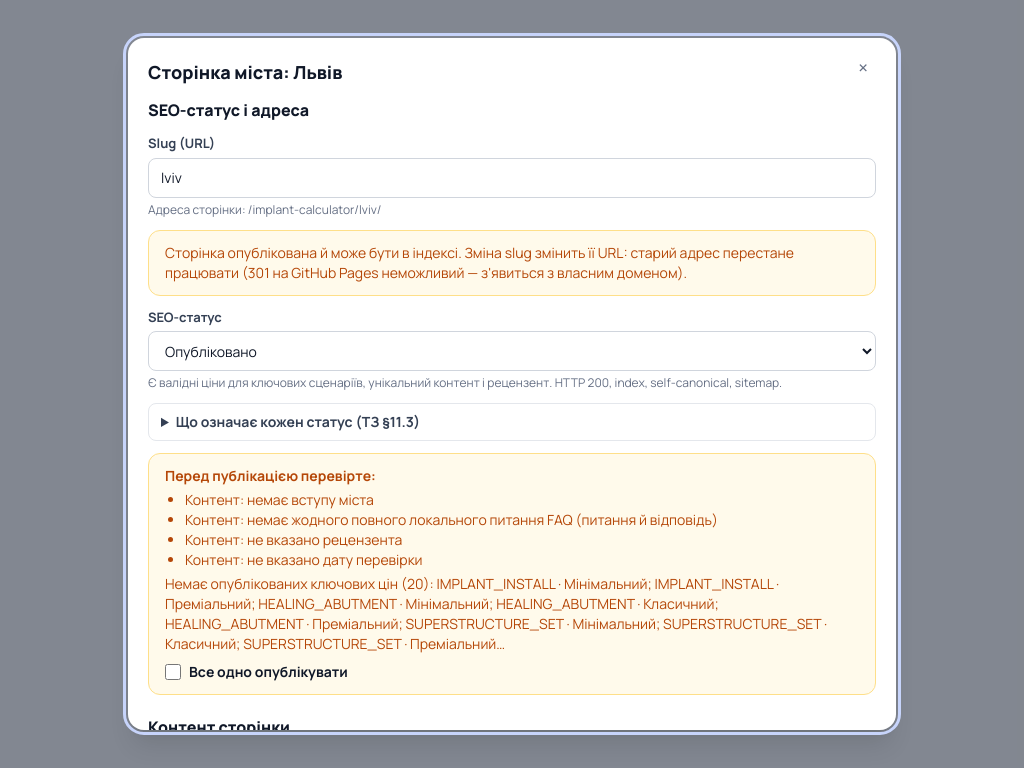
CityPageDialog › rejects an invalid slug and requires acknowledgement when changing a published slug
Replace the text in the field labelled "Slug (URL)" with "new-lviv" at [512, 178], box [148,158,876,198]
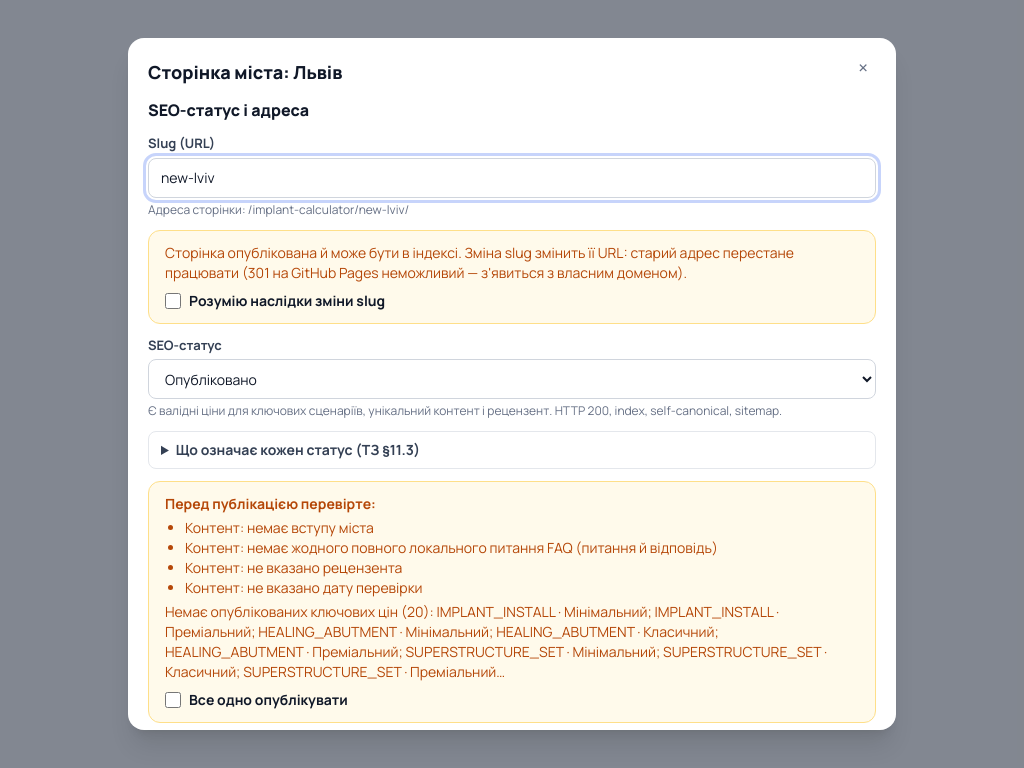
Click the checkbox labelled "Розумію наслідки зміни slug" at [173, 301], box [165,293,181,309]
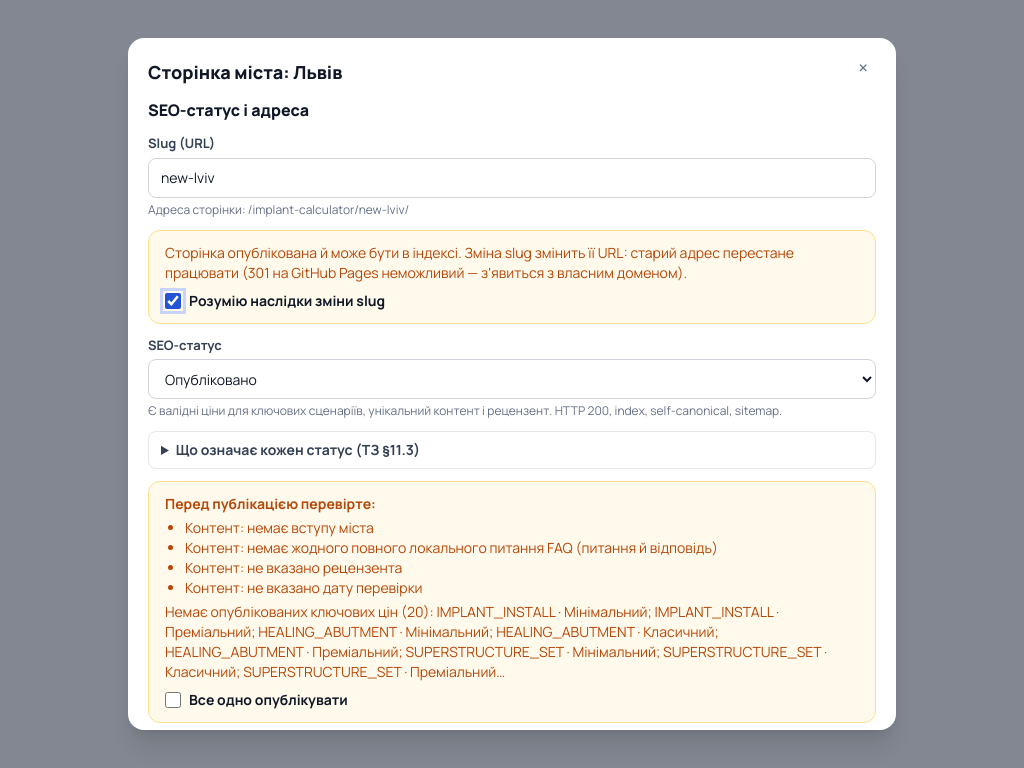
Replace the text in the field labelled "Slug (URL)" with "Bad Slug" at [512, 178], box [148,158,876,198]
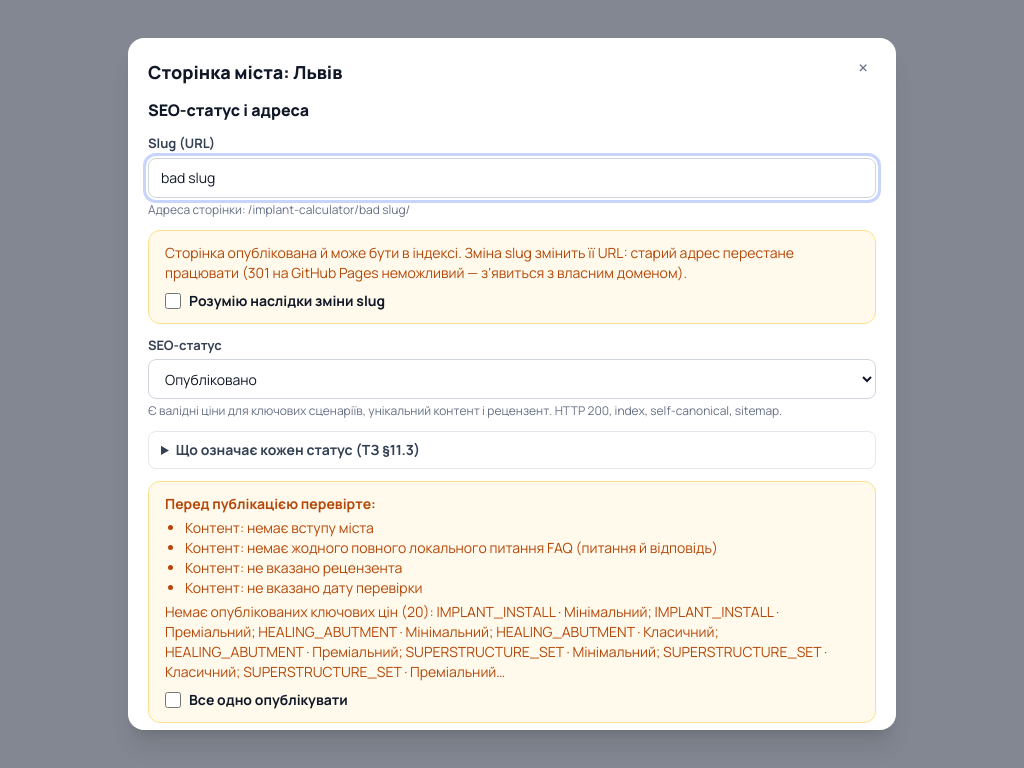
Click the checkbox labelled "Розумію наслідки зміни slug" at [173, 301], box [165,293,181,309]
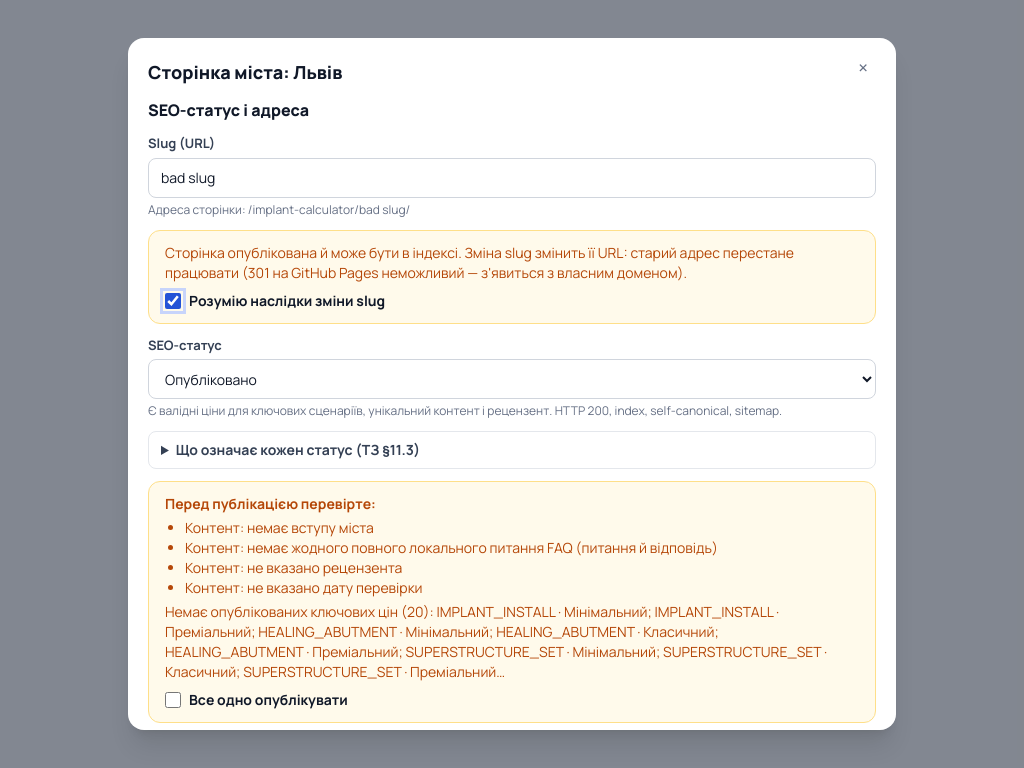
Click the checkbox labelled "Все одно опублікувати" at [173, 700], box [165,692,181,708]
(page scrolled)
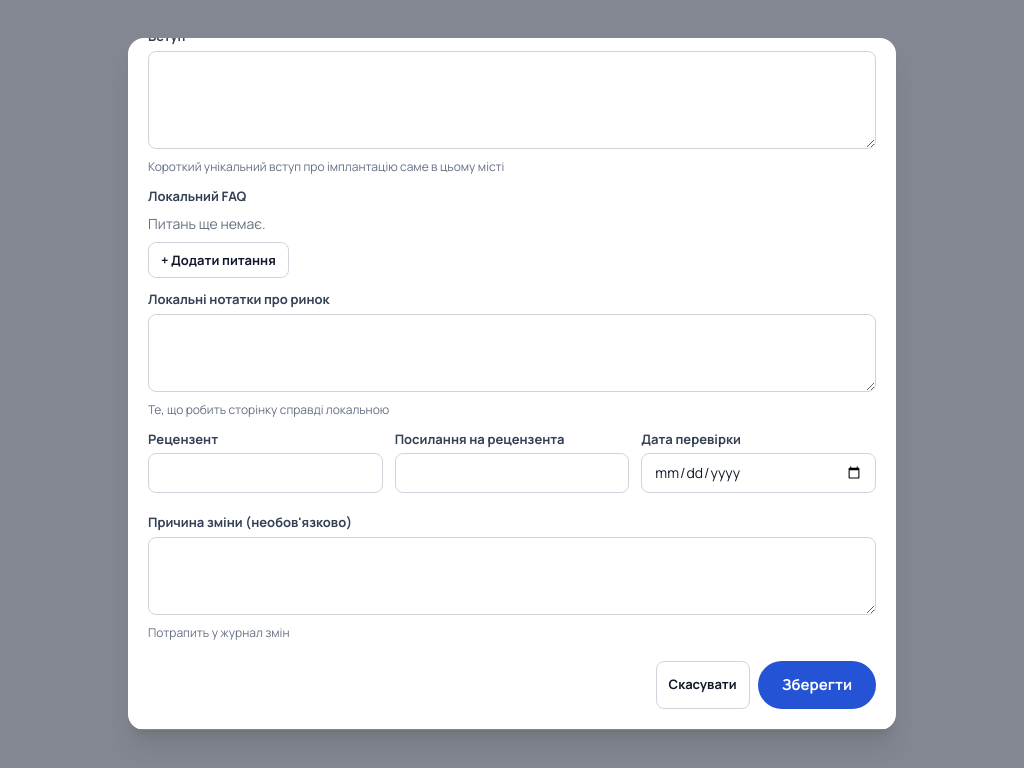
Click the button "Зберегти" at [817, 685], box [758,661,876,709]
(page scrolled)
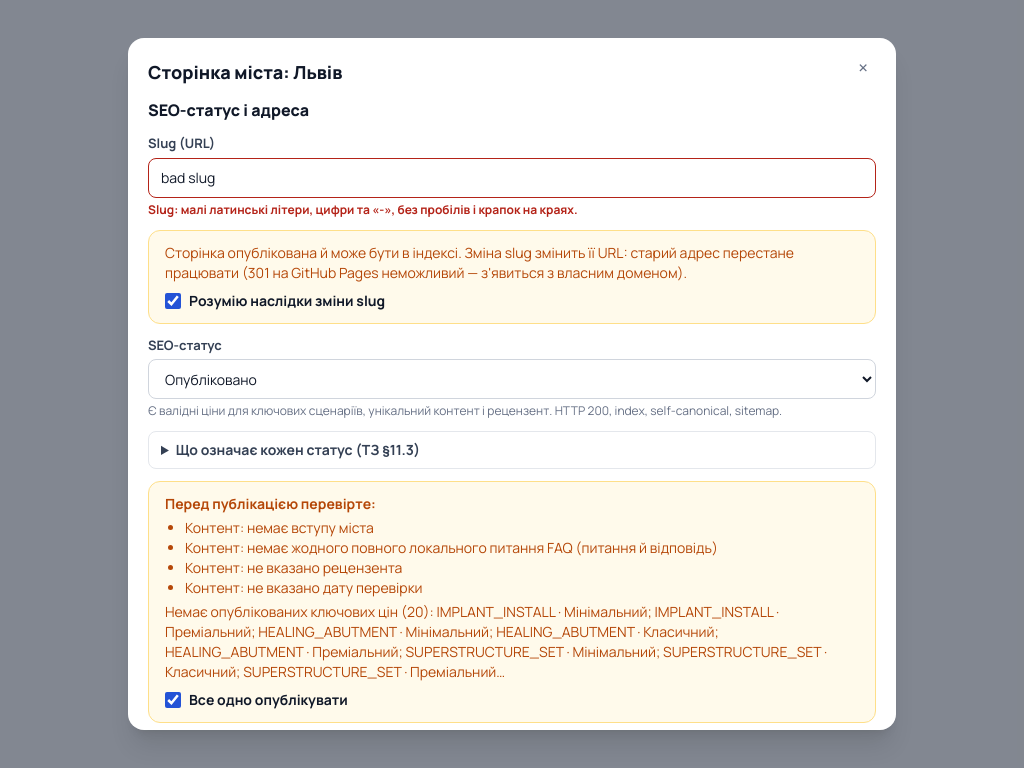
Expected: the text "Slug: малі латинські літери, цифри та «-», без пробілів і крапок на краях." is shown, [148,201,578,218]
